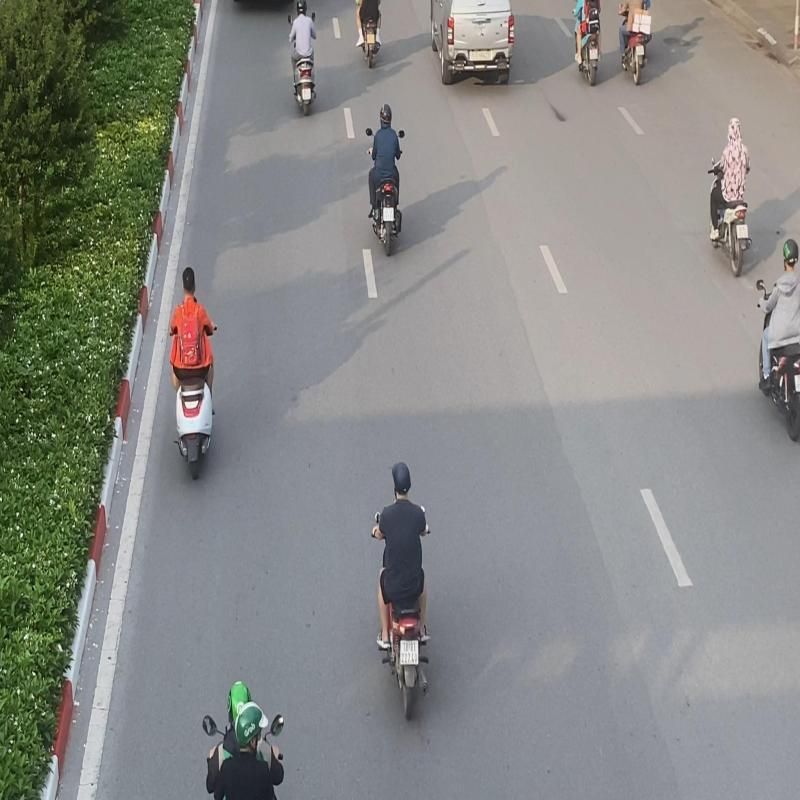helmet: (392, 461, 412, 495)
licenseplate: (399, 640, 418, 664)
motorcyclist: (368, 459, 435, 722), (167, 262, 220, 482)
nohelmet: (180, 266, 198, 296)
